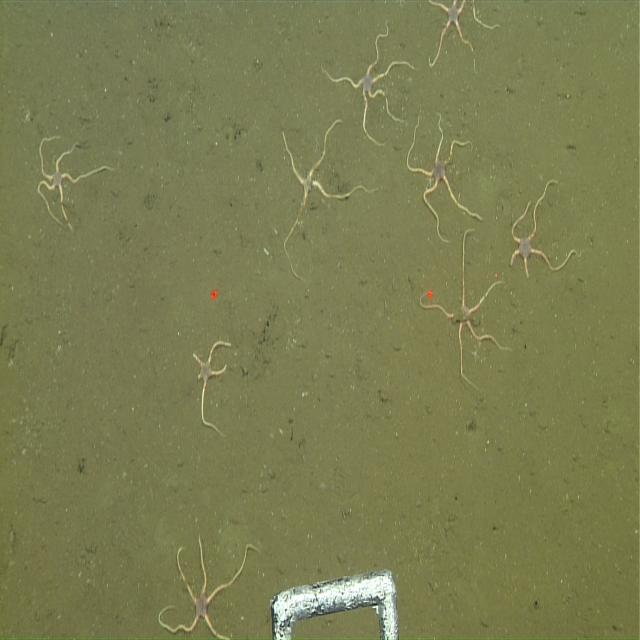Brittle Star: (267, 114, 377, 282), (417, 231, 514, 394), (156, 514, 262, 636), (318, 21, 418, 148), (402, 112, 485, 242), (31, 129, 116, 239), (505, 178, 584, 294), (418, 0, 503, 78), (186, 330, 241, 441)
